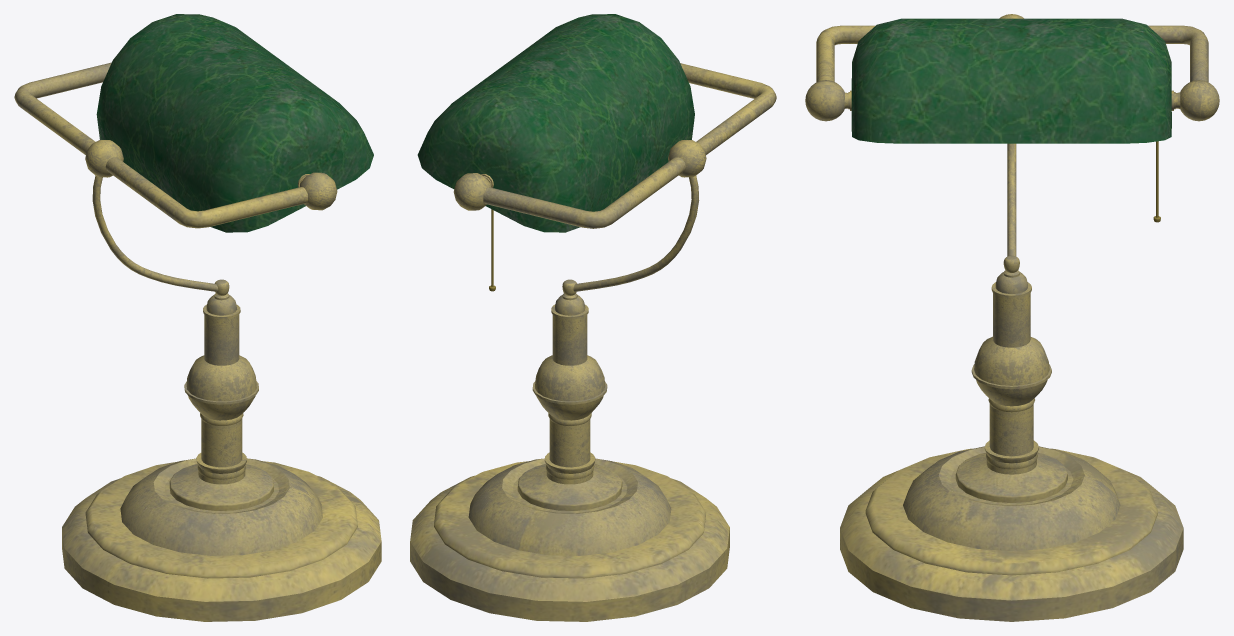
The model's file is victorian_desk_lamp.glb.
3 views of the same model, side by side, from view 1: azimuth 30°, elevation 25°; view 2: azimuth 150°, elevation 25°; view 3: azimuth 270°, elevation 25° (orthographic). The views are drawn at different scales.
Parts seen in each view (by area): view 1: desk_lamp:pCylinder36; view 2: desk_lamp:pCylinder36; view 3: desk_lamp:pCylinder36.
Part boxes in pixels (x1=…): desk_lamp:pCylinder36: x1=14, y1=14, x2=381, y2=621; desk_lamp:pCylinder36: x1=410, y1=14, x2=776, y2=621; desk_lamp:pCylinder36: x1=805, y1=14, x2=1219, y2=621.
Bounding box in the file's own units: 39.28 × 66.72 × 47.36.
1 material, 1 textured.
